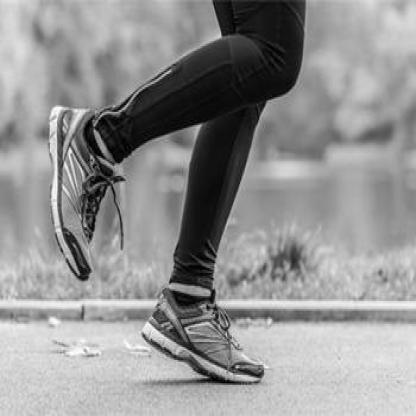ankle: (176, 296, 182, 301), (83, 133, 85, 139)
heel: (152, 333, 156, 338), (65, 109, 68, 115)
left_foot: (143, 288, 268, 386)
pinky: (69, 235, 73, 241), (249, 356, 252, 360)
right_foot: (49, 106, 116, 282)
toe: (90, 265, 94, 272), (250, 371, 253, 376)
